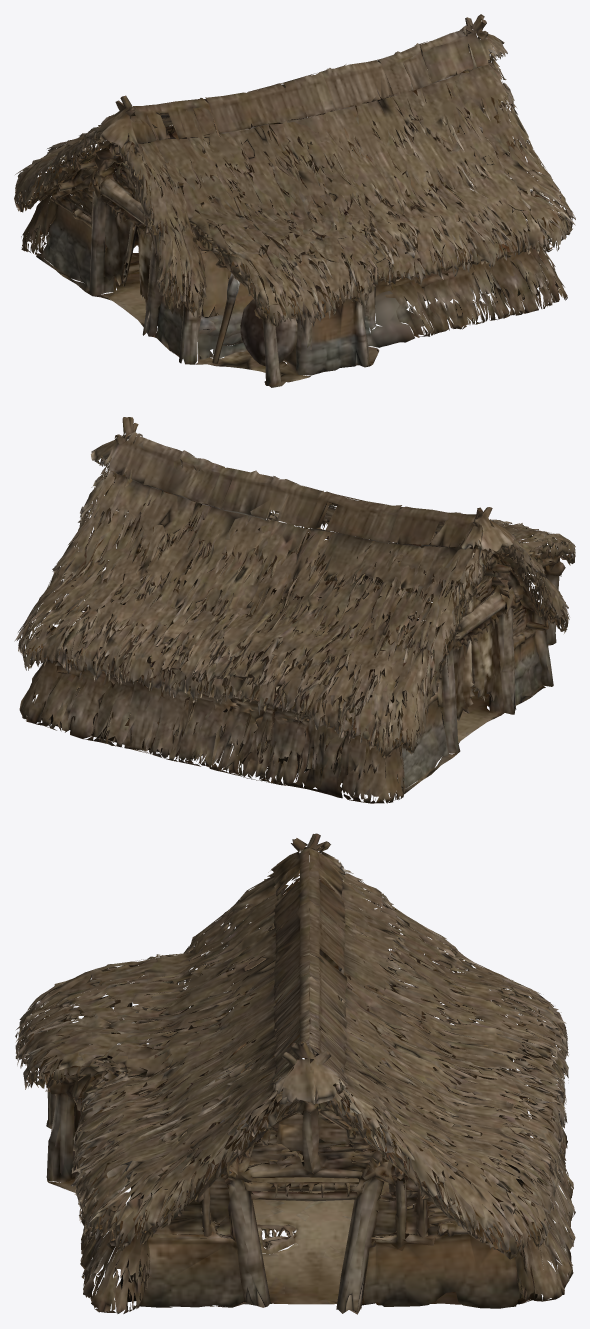
File: barracks_mid.glb
3 views of the same model, one above another, from view 1: azimuth 30°, elevation 25°; view 2: azimuth 150°, elevation 25°; view 3: azimuth 270°, elevation 25° (orthographic). The views are drawn at different scales.
Visible parts, largest first — view 1: model; view 2: model; view 3: model.
Boxes of the visible parts, box(x1,y1,x2,y2) form: model: box(14, 14, 575, 387); model: box(14, 417, 575, 803); model: box(15, 833, 575, 1314).
Bounding box in the file's own units: 0.9978 × 0.5274 × 0.9815.
1 material, 1 textured.
